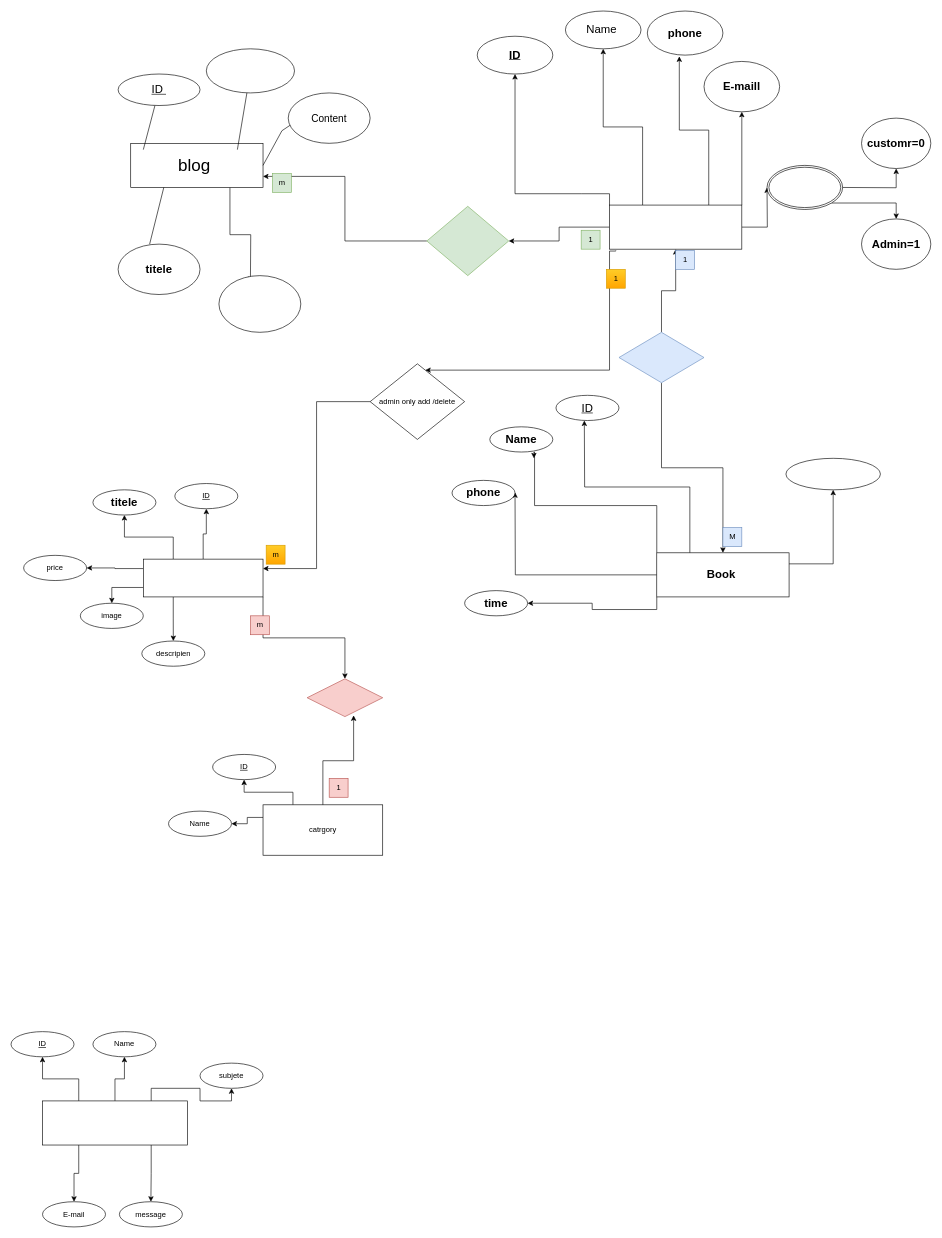
Some shapes in this 942 by 1238 pixel diagram are drawn without their labels. Here are the shapes that lost their labels. From the top down, the box of each, then its label:
(206, 48, 295, 93): images
(766, 165, 843, 209): Type of user
(426, 206, 509, 276): woret
(609, 204, 742, 249): Uesr
(218, 275, 301, 332): cretion Data
(618, 332, 704, 383): has book
(785, 458, 880, 490): N-of -pareson
(143, 558, 263, 597): itme
(306, 678, 383, 717): has itme
(42, 1100, 187, 1145): contact
